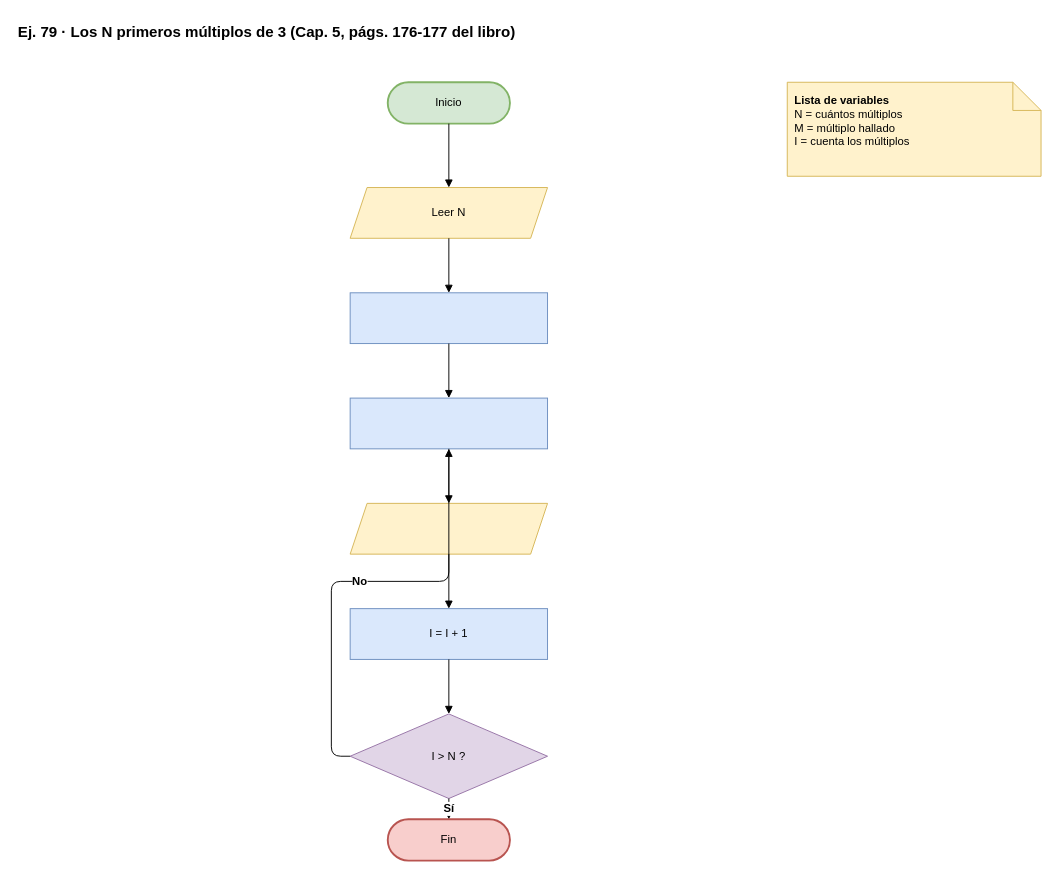
Image size: 1058x877. Some labels were removed from this diagram. Here are the shapes that lost their labels. From the top down, the box of each, then its label:
(349, 292, 548, 344): I = 1
(349, 397, 548, 449): M = 3 × I
(349, 502, 548, 554): Escribir «El múltiplo I de 3 es M»
